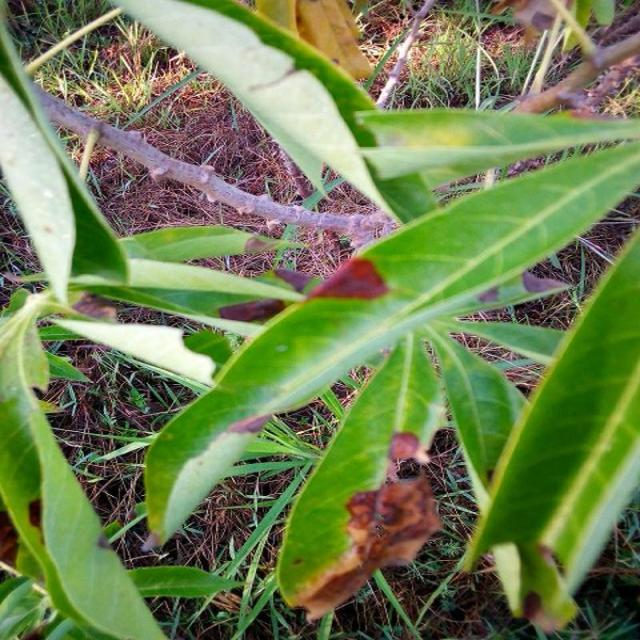cassava leaf: (142, 136, 639, 550), (459, 224, 640, 631), (276, 326, 446, 621)
